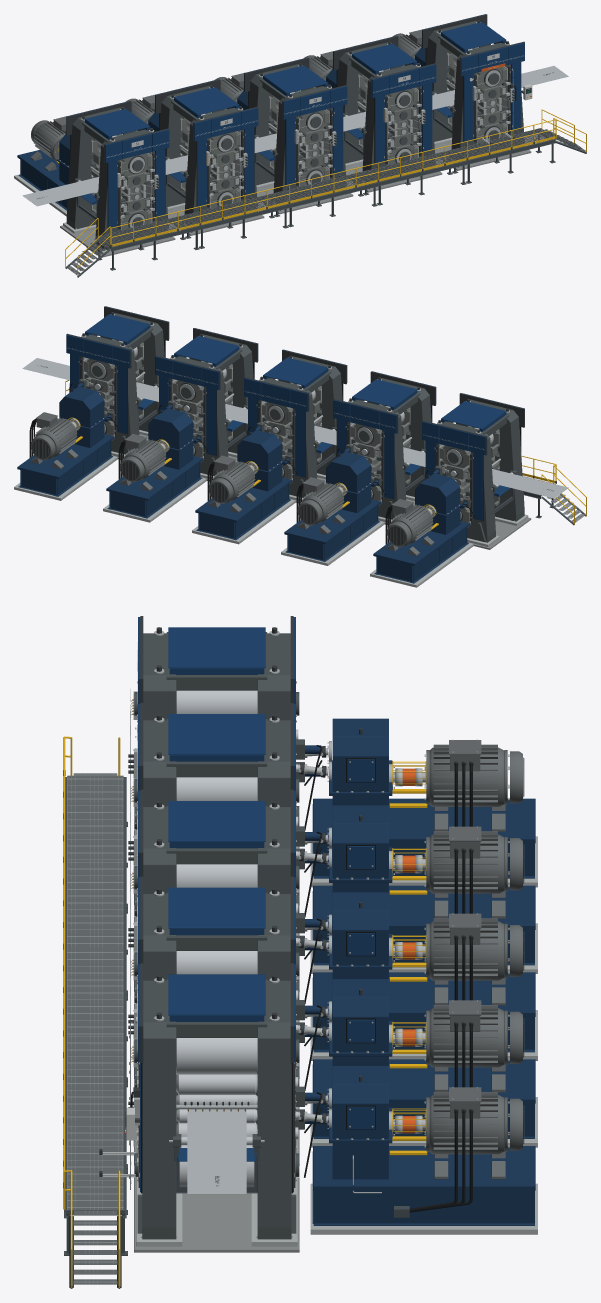
Rendered from DKQKAR_5Stand.glb.
3 views of the same model, one above another, from view 1: azimuth 30°, elevation 25°; view 2: azimuth 150°, elevation 25°; view 3: azimuth 270°, elevation 25° (orthographic). The views are drawn at different scales.
Visible parts, largest first — view 1: S1_Frame, S5_Frame, S4_Frame, S3_Frame, S2_Frame, Steel_Strip, S3_OperatorPlatform, S4_OperatorPlatform, S2_OperatorPlatform, S1_TopHood, S2_TopHood, S3_TopHood (+38 smaller); view 2: S1_Frame, Steel_Strip, S2_Frame, S4_Frame, S5_Frame, S3_Frame, S5_GearboxLower, S3_GearboxLower, S4_GearboxLower, S2_GearboxLower, S1_GearboxLower, S5_DriveBedTop (+45 smaller); view 3: S5_Frame, S5_DriveBedRail1.04, S5_DriveBedTop, S2_Frame, S3_Frame, S1_Frame, S4_Frame, S5_GearboxLower, S5_EquipmentFoundation, Steel_Strip, S2_OperatorPlatform, S1_OperatorPlatform (+34 smaller).
Boxes of the visible parts, bbox=[...] form: S1_Frame: bbox=[66, 107, 168, 249]; S5_Frame: bbox=[426, 20, 524, 158]; S4_Frame: bbox=[337, 42, 435, 184]; S3_Frame: bbox=[248, 64, 346, 200]; S2_Frame: bbox=[159, 86, 257, 224]; Steel_Strip: bbox=[22, 66, 568, 206]; S3_OperatorPlatform: bbox=[274, 171, 374, 201]; S4_OperatorPlatform: bbox=[363, 150, 463, 179]; S2_OperatorPlatform: bbox=[186, 193, 285, 223]; S1_TopHood: bbox=[85, 109, 150, 136]; S2_TopHood: bbox=[174, 87, 238, 115]; S3_TopHood: bbox=[263, 65, 328, 93]; S1_Frame: bbox=[425, 399, 524, 542]; Steel_Strip: bbox=[22, 358, 568, 498]; S2_Frame: bbox=[336, 378, 431, 519]; S4_Frame: bbox=[158, 334, 253, 475]; S5_Frame: bbox=[69, 313, 164, 454]; S3_Frame: bbox=[247, 356, 342, 497]; S5_GearboxLower: bbox=[59, 386, 104, 447]; S3_GearboxLower: bbox=[237, 430, 282, 491]; S4_GearboxLower: bbox=[148, 408, 193, 469]; S2_GearboxLower: bbox=[326, 451, 371, 512]; S1_GearboxLower: bbox=[415, 473, 460, 534]; S5_DriveBedTop: bbox=[17, 434, 114, 479]; S5_Frame: bbox=[142, 979, 291, 1239]; S5_DriveBedRail1.04: bbox=[313, 1190, 534, 1225]; S5_DriveBedTop: bbox=[313, 1146, 535, 1190]; S2_Frame: bbox=[143, 719, 290, 806]; S3_Frame: bbox=[143, 805, 290, 893]; S1_Frame: bbox=[143, 632, 290, 720]; S4_Frame: bbox=[143, 892, 290, 980]; S5_GearboxLower: bbox=[332, 1066, 388, 1179]; S5_EquipmentFoundation: bbox=[134, 1177, 299, 1252]; Steel_Strip: bbox=[187, 1109, 246, 1194]; S2_OperatorPlatform: bbox=[67, 862, 123, 949]; S1_OperatorPlatform: bbox=[67, 775, 123, 862].
Size of the model in its own units: 31.1 by 6.2 by 12.02.
